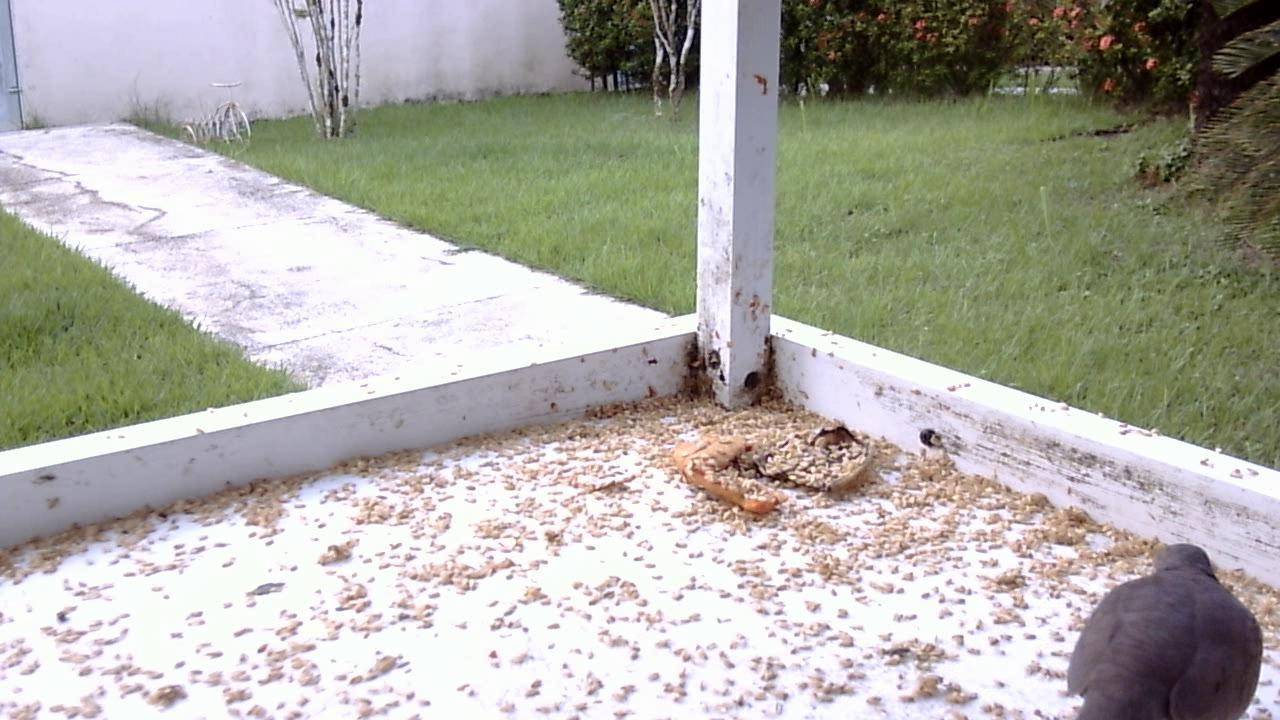rolinha: (1062, 534, 1267, 716)
